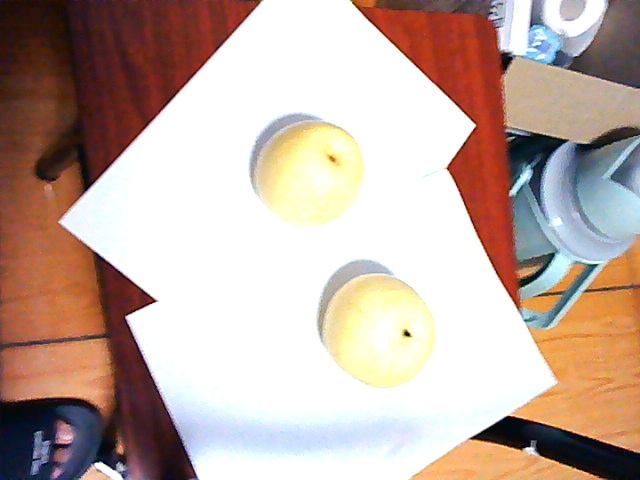pear: (316, 268, 437, 386), (251, 116, 361, 233)
